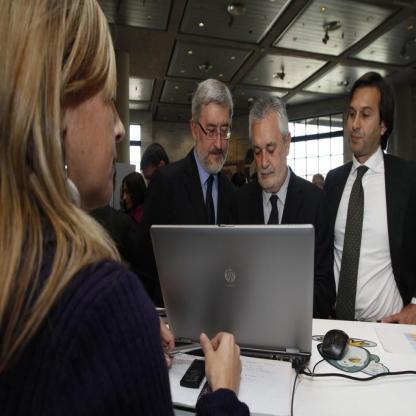board: (152, 223, 314, 354)
